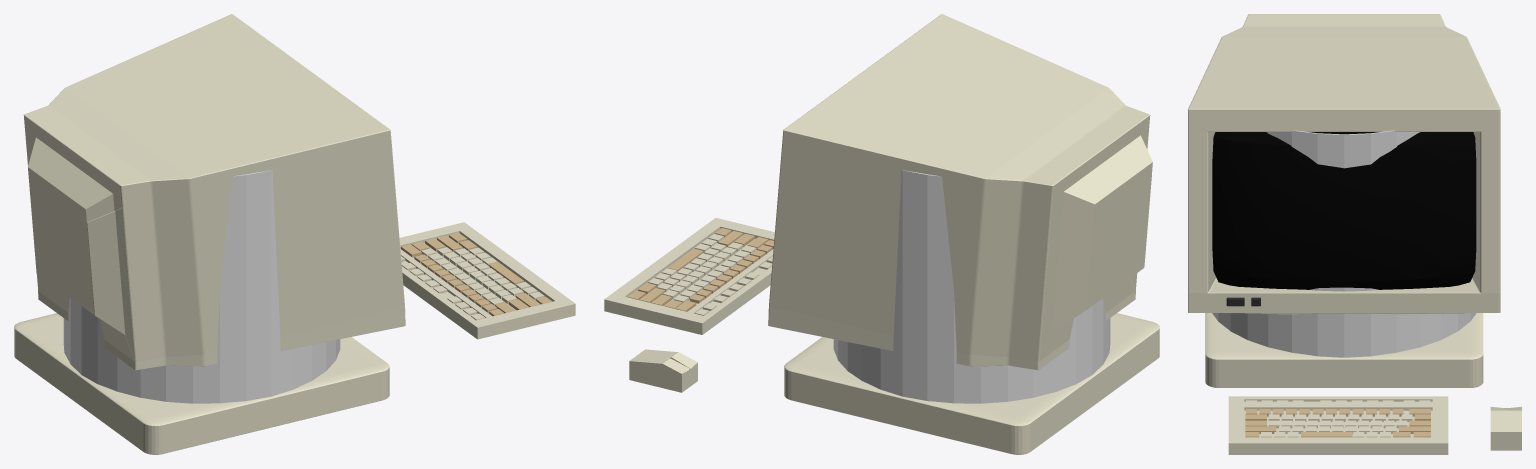
Rendered from Computer.fbx.
The picture shows the model from 3 angles, left to right: view 1: azimuth 30°, elevation 25°; view 2: azimuth 150°, elevation 25°; view 3: azimuth 270°, elevation 25°; orthographic projection.
Parts seen in each view (by area): view 1: Cube.001, Cylinder, Cube, Cube.005, Cube.011, Cube.012, Cube.007, Cube.013; view 2: Cube.001, Cylinder, Cube, Cube.005, Cube.026, Cube.011, Cube.012, Cube.007, Cube.013; view 3: Cube.001, Cube.002, Cube, Cylinder, Cube.005, Cube.026, Cube.012, Cube.007, Cube.011, Cube.013.
Boxes of the visible parts, x1,y1,x2,y2 form: Cube.001: (23,14,405,370); Cylinder: (63,170,340,403); Cube: (14,313,389,454); Cube.005: (399,222,575,339); Cube.011: (414,254,504,316); Cube.012: (437,247,517,303); Cube.007: (421,248,504,305); Cube.013: (454,248,523,296); Cube.001: (768,14,1152,370); Cylinder: (833,170,1110,403); Cube: (784,313,1159,454); Cube.005: (604,218,774,334); Cube.026: (629,349,697,392); Cube.011: (689,240,774,303); Cube.012: (663,242,743,299); Cube.007: (673,245,756,302); Cube.013: (656,243,726,291); Cube.001: (1188,14,1500,314); Cube.002: (1212,132,1476,289); Cube: (1205,313,1483,387); Cylinder: (1212,130,1476,357); Cube.005: (1228,396,1448,454); Cube.026: (1490,406,1521,450); Cube.012: (1268,420,1407,428); Cube.007: (1268,414,1412,421); Cube.011: (1246,409,1403,416); Cube.013: (1279,426,1396,433).
Bounding box in the file's own units: 329 × 189 × 208.
